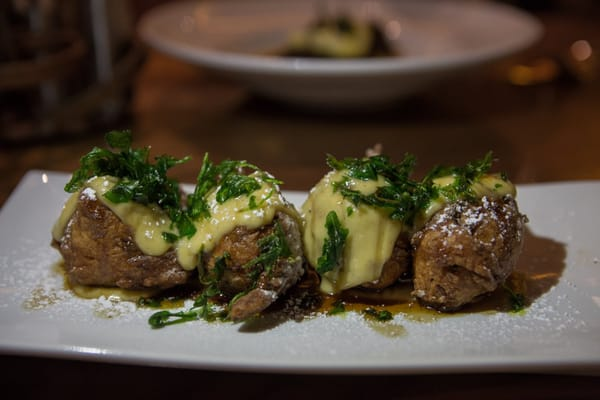curry: (50, 130, 308, 326), (299, 149, 525, 304)
sushi: (129, 0, 552, 120)
